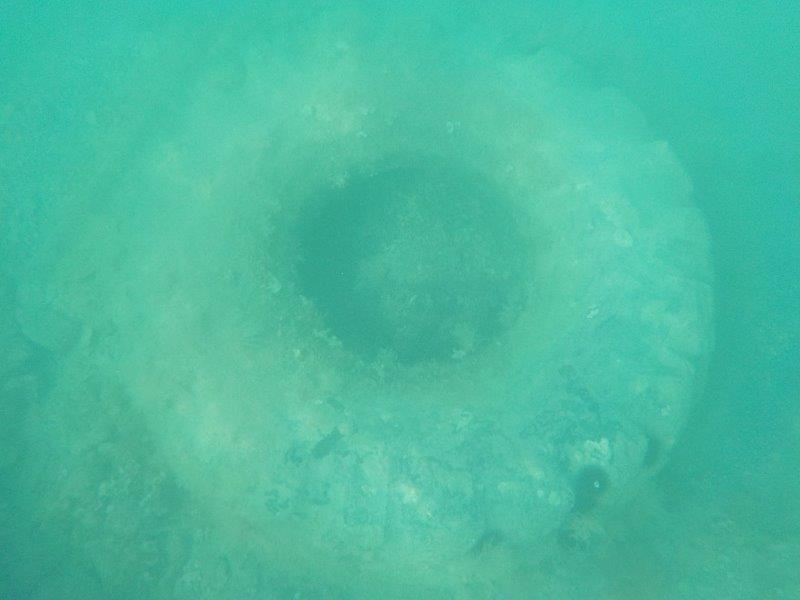tire: (102, 8, 730, 594)
